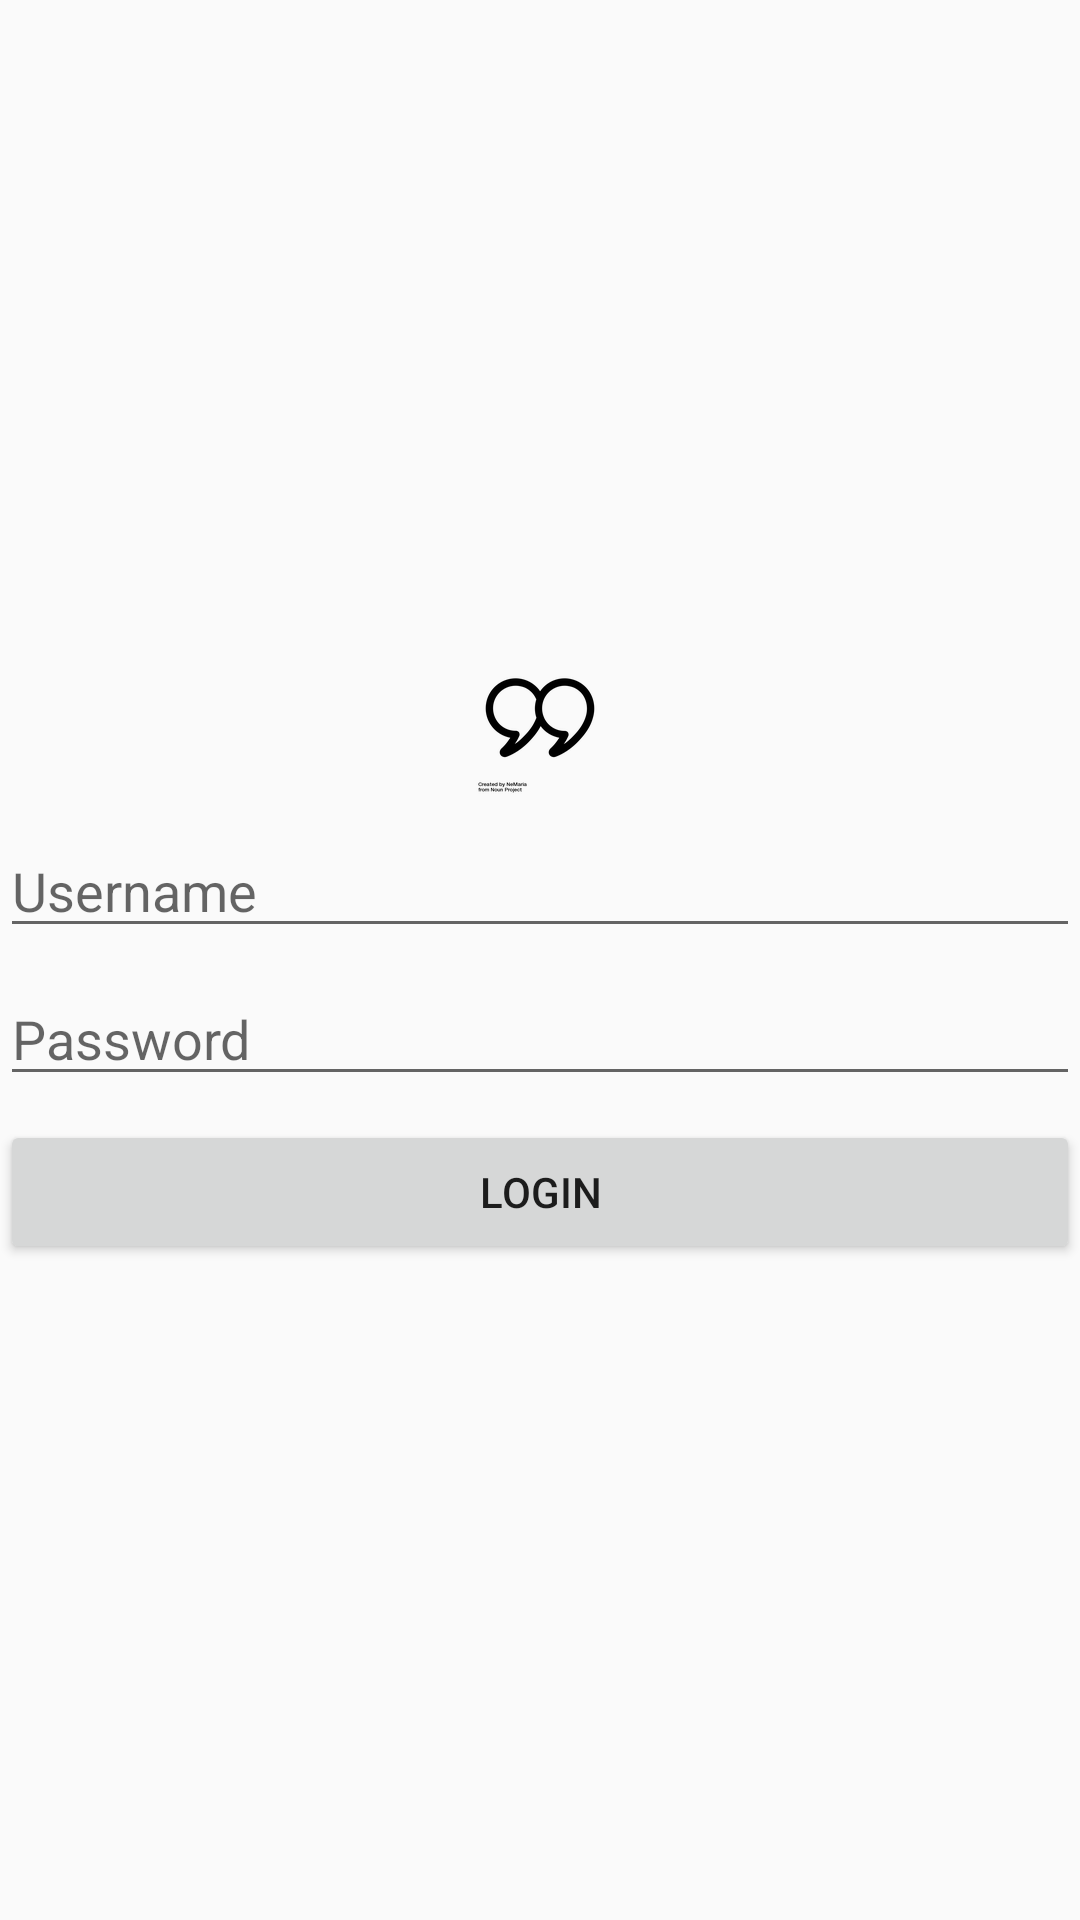

Where to tap for icons on this 1080*1920 app screen, as [x,y]:
quotes: [536,735]
